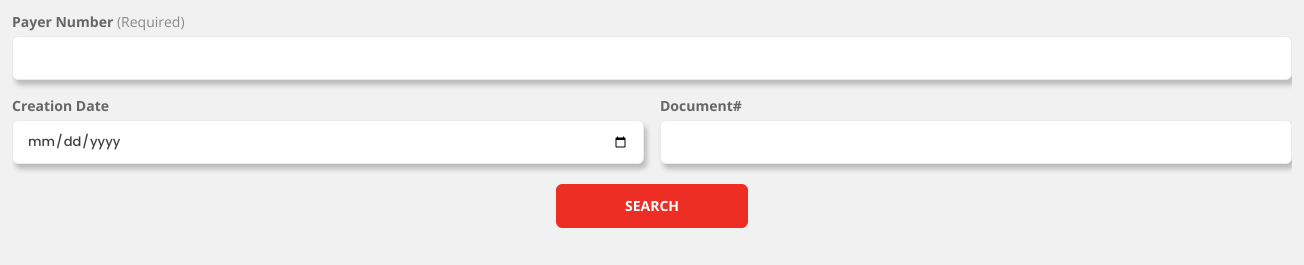
Test: SearchForm exclusive fields › unlocks the partner again when the field is cleared
The width and height of the screenshot is (1304, 265).
Type "123456" into the field labelled "Document#".
click(976, 142); type("123456")  # box [660,120,1292,164]
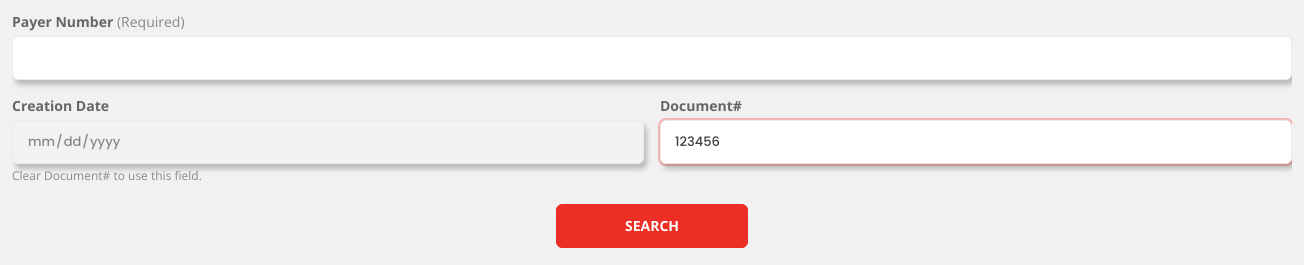
Check: the date field labelled "Creation Date" is disabled, box [12,120,644,164]
Clear the field labelled "Document#" at (976, 142), box [660,120,1292,164]
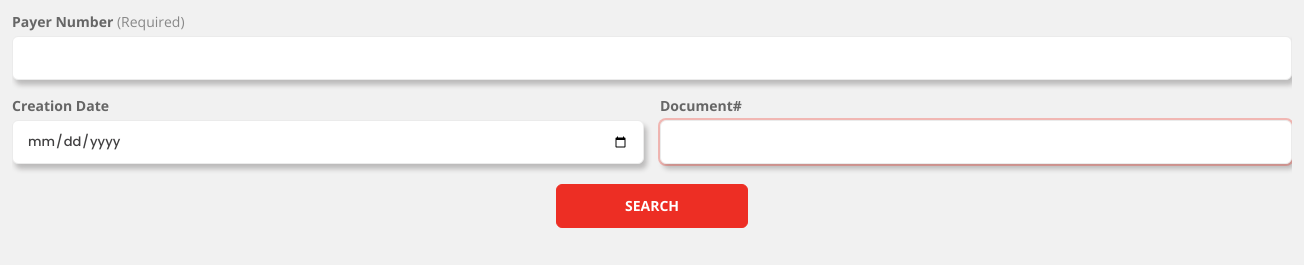
Check: the date field labelled "Creation Date" is enabled, box [12,120,644,164]
